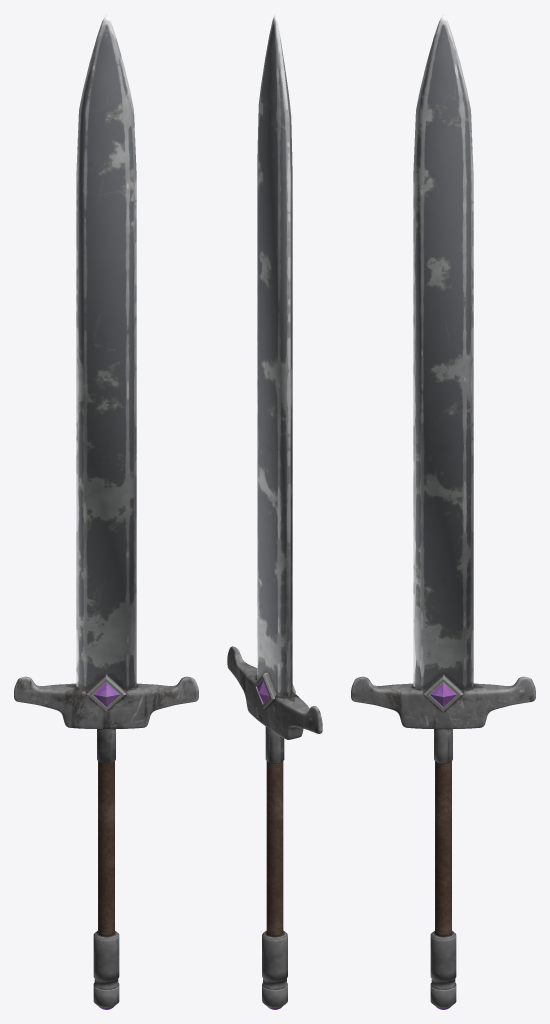
The model's file is sword.glb.
3 renders of one model, left to right at view 1: azimuth 90°, elevation 25°; view 2: azimuth 210°, elevation 25°; view 3: azimuth 270°, elevation 25°, orthographic.
Parts seen in each view (by area): view 1: sword; view 2: sword; view 3: sword.
Part boxes in pixels (<box>): sword: <box>14,14,198,1009</box>; sword: <box>227,14,322,1009</box>; sword: <box>351,14,535,1009</box>.
Bounding box in the file's own units: 0.263 × 7.68 × 1.29.
Materials: 1 (1 with a texture image).
